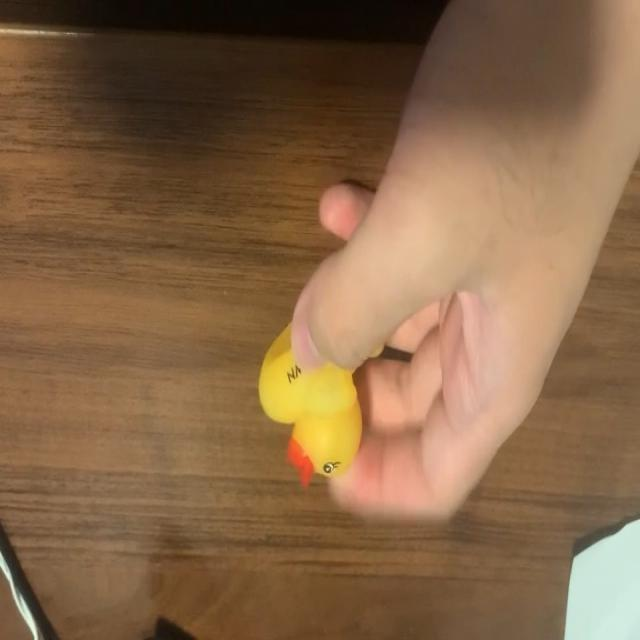rubber-duck: (257, 324, 360, 485)
